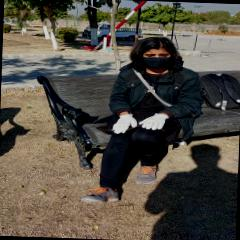gloved: (113, 112, 136, 134), (140, 114, 168, 130)
